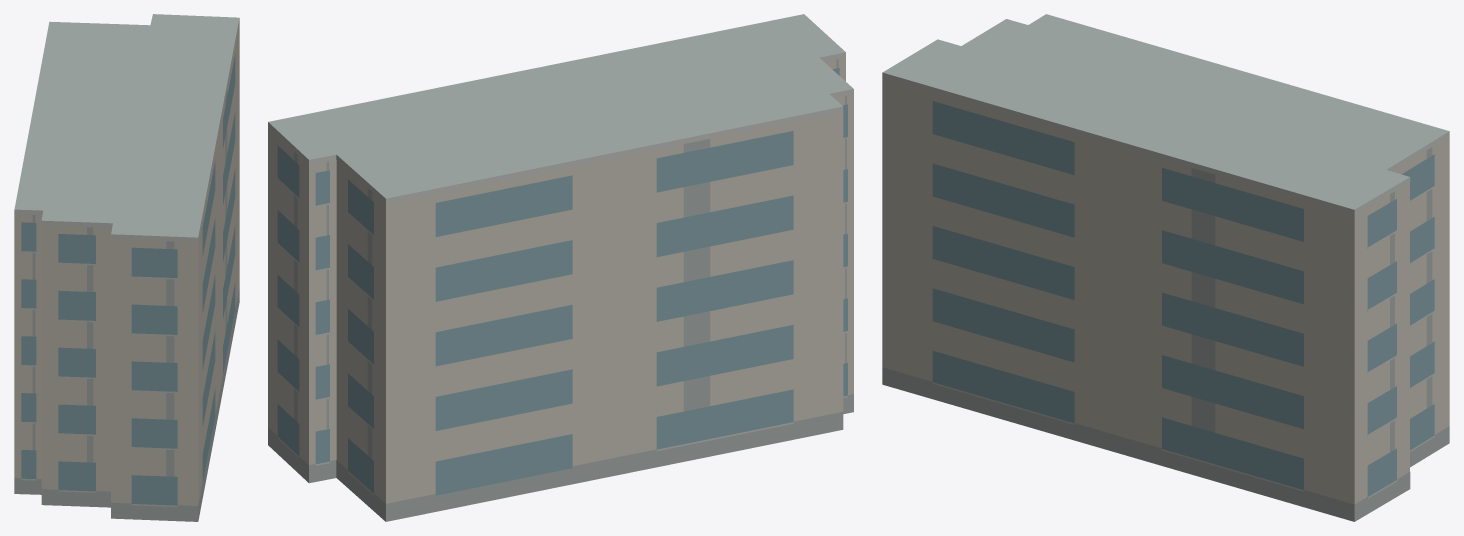
File: survey-upis-32787353.glb
3 renders of one model, left to right at view 1: azimuth 30°, elevation 25°; view 2: azimuth 150°, elevation 25°; view 3: azimuth 270°, elevation 25°, orthographic. The views are drawn at different scales.
Parts seen in each view (by area): view 1: survey-upis-32787353.tmp; view 2: survey-upis-32787353.tmp; view 3: survey-upis-32787353.tmp.
Part boxes in pixels (bbox=[...]): survey-upis-32787353.tmp: bbox=[14, 14, 239, 521]; survey-upis-32787353.tmp: bbox=[268, 14, 853, 521]; survey-upis-32787353.tmp: bbox=[882, 14, 1449, 521].
Bounding box in the file's own units: 19.39 × 14.4 × 23.73.
